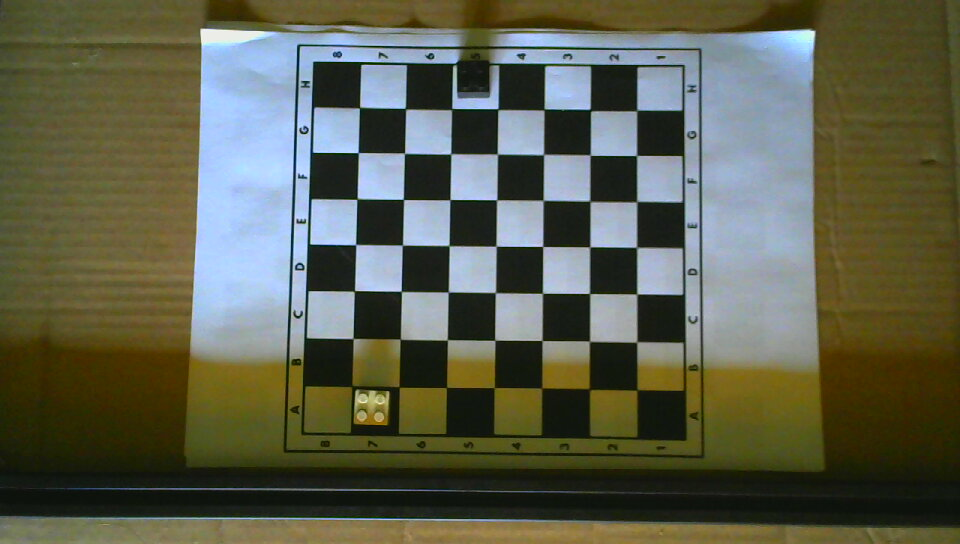bp: (455, 59, 491, 99)
wp: (353, 388, 391, 429)
